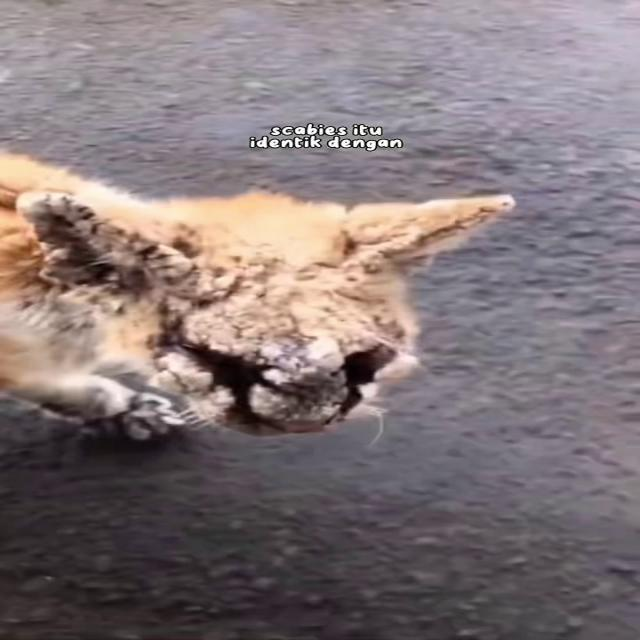ghe: (11, 183, 358, 426)
